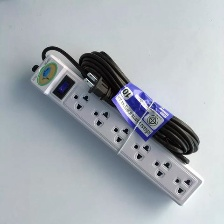three_eye_plug: (24, 53, 205, 208)
